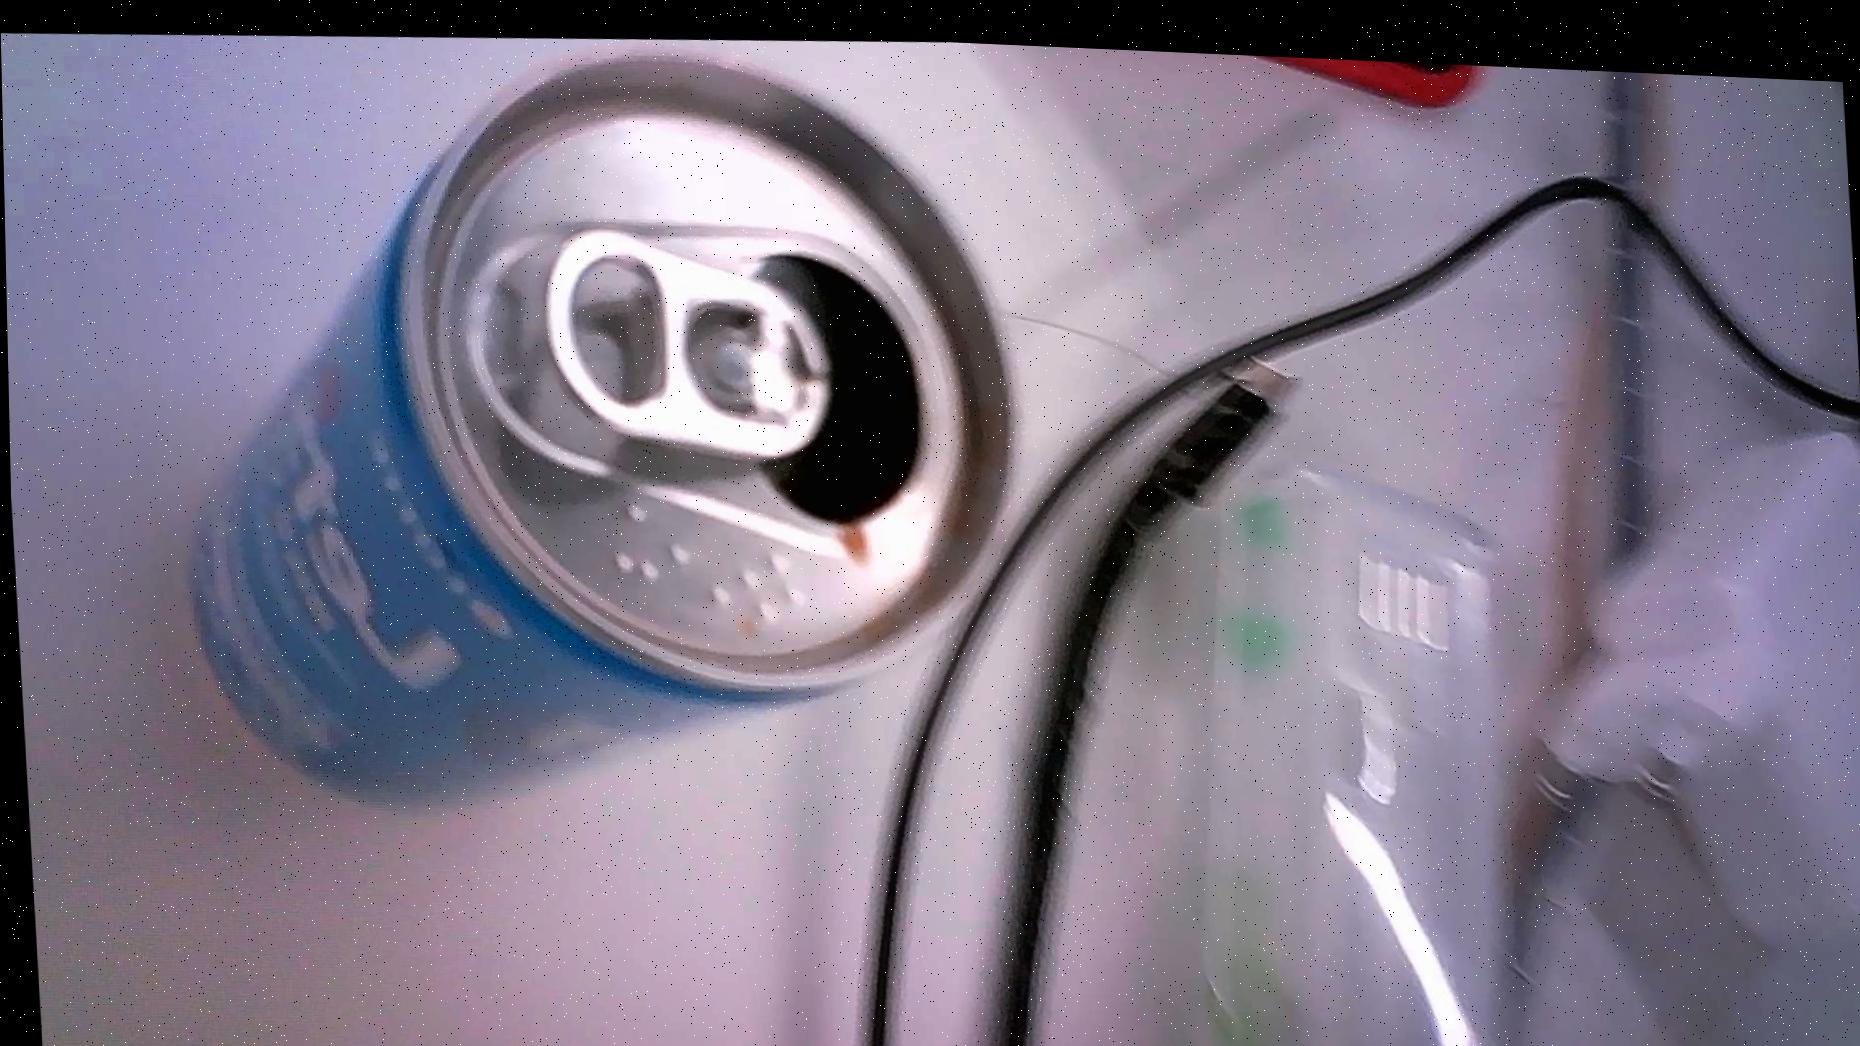letsbe: (160, 9, 1040, 840)
